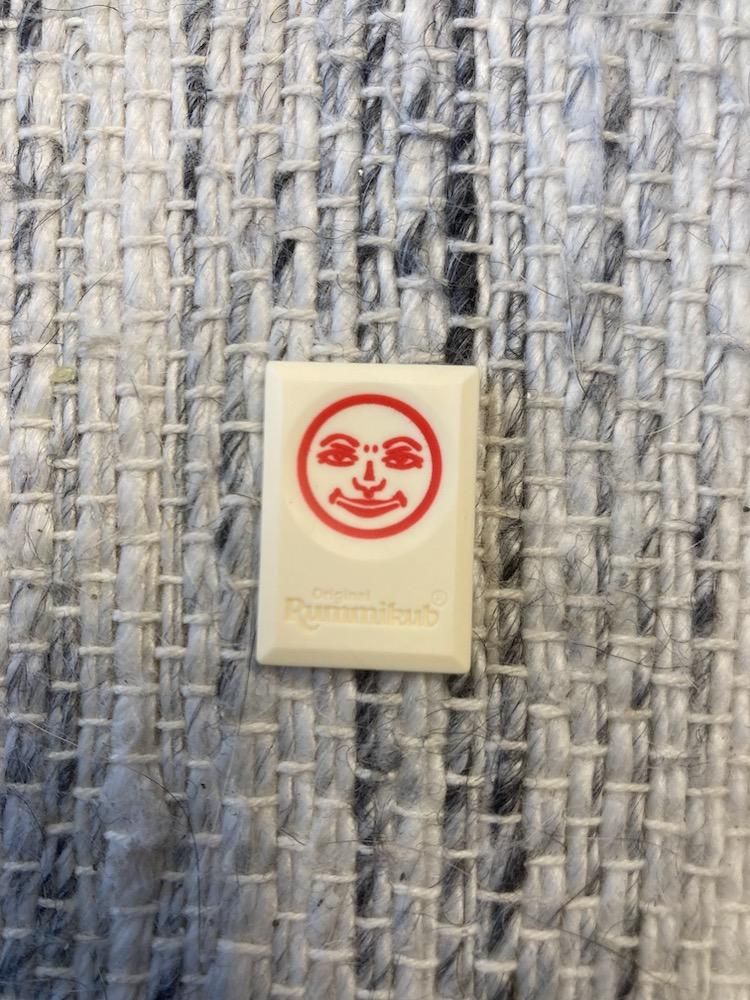joker: (258, 361, 479, 672)
